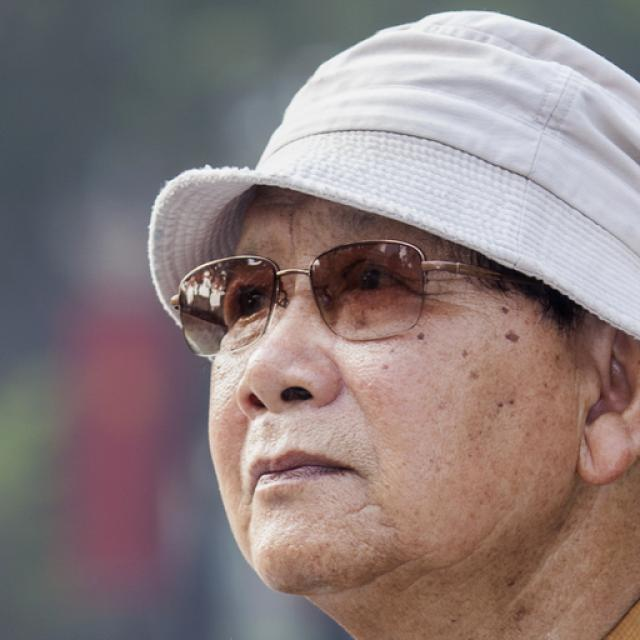neutral: (205, 150, 571, 584)
